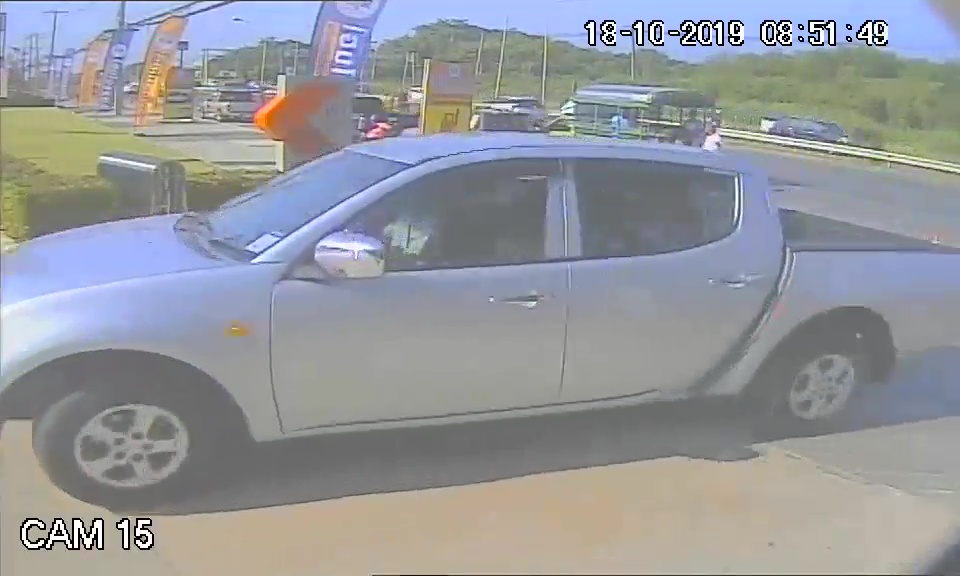pickup: (7, 132, 795, 466)
